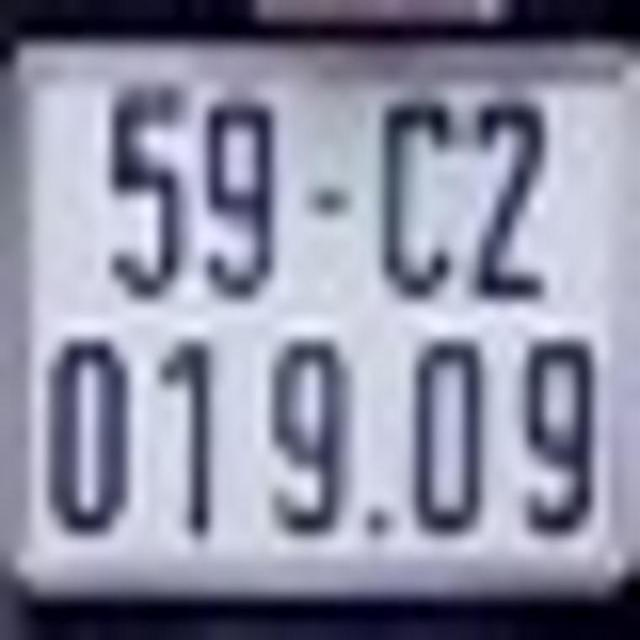0: (37, 330, 136, 537), (408, 322, 486, 540)
1: (152, 332, 224, 542)
2: (470, 85, 548, 302)
5: (102, 84, 185, 298)
9: (512, 324, 599, 548), (196, 86, 276, 314), (268, 328, 342, 543)
C: (373, 84, 458, 306)
